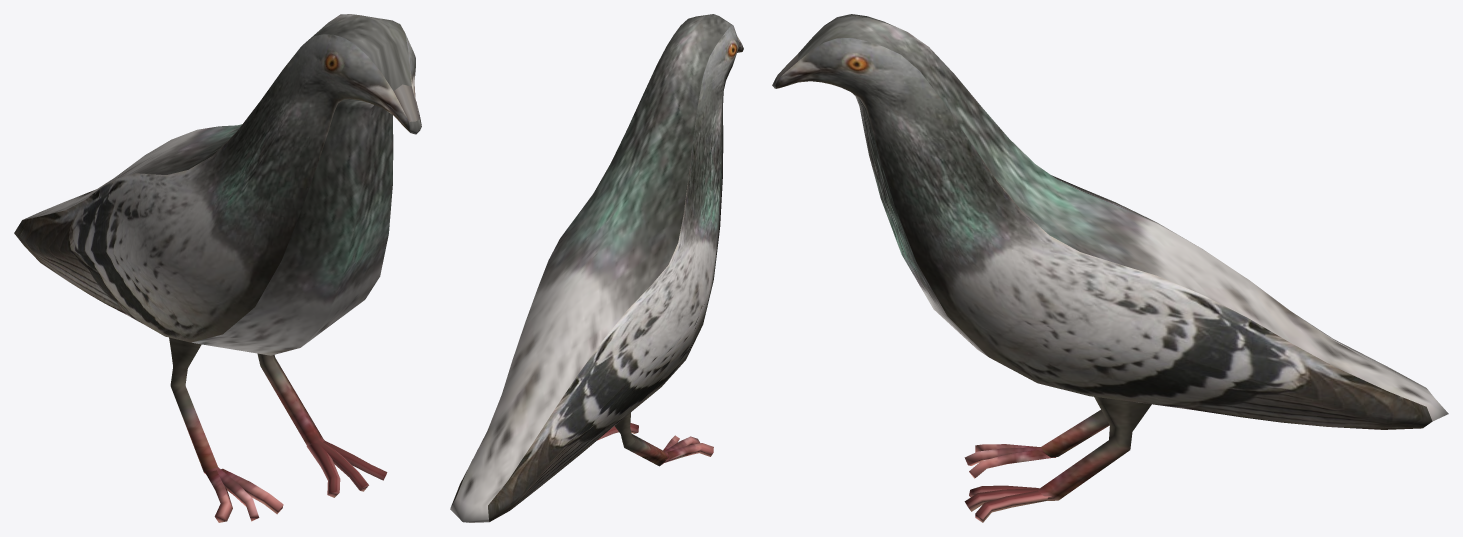
The model's file is SM_A_Pigeon00.fbx.
3 renders of one model, left to right at view 1: azimuth 30°, elevation 25°; view 2: azimuth 150°, elevation 25°; view 3: azimuth 270°, elevation 25°, orthographic. The views are drawn at different scales.
Visible parts, largest first — view 1: SM_A_Pigeon00; view 2: SM_A_Pigeon00; view 3: SM_A_Pigeon00.
Part boxes in pixels (x1=…): SM_A_Pigeon00: x1=14, y1=14, x2=421, y2=522; SM_A_Pigeon00: x1=450, y1=14, x2=743, y2=522; SM_A_Pigeon00: x1=772, y1=14, x2=1448, y2=522.
Bounding box in the file's own units: 32.33 × 80.42 × 104.
